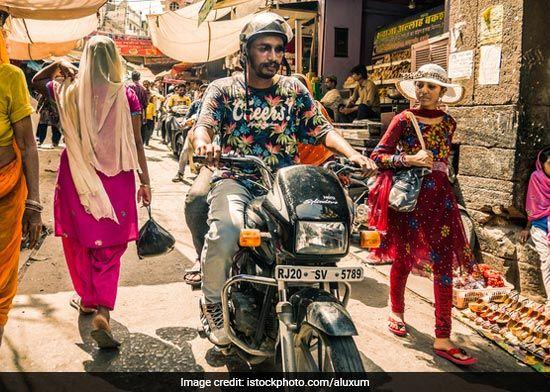helmet: (226, 9, 313, 88)
